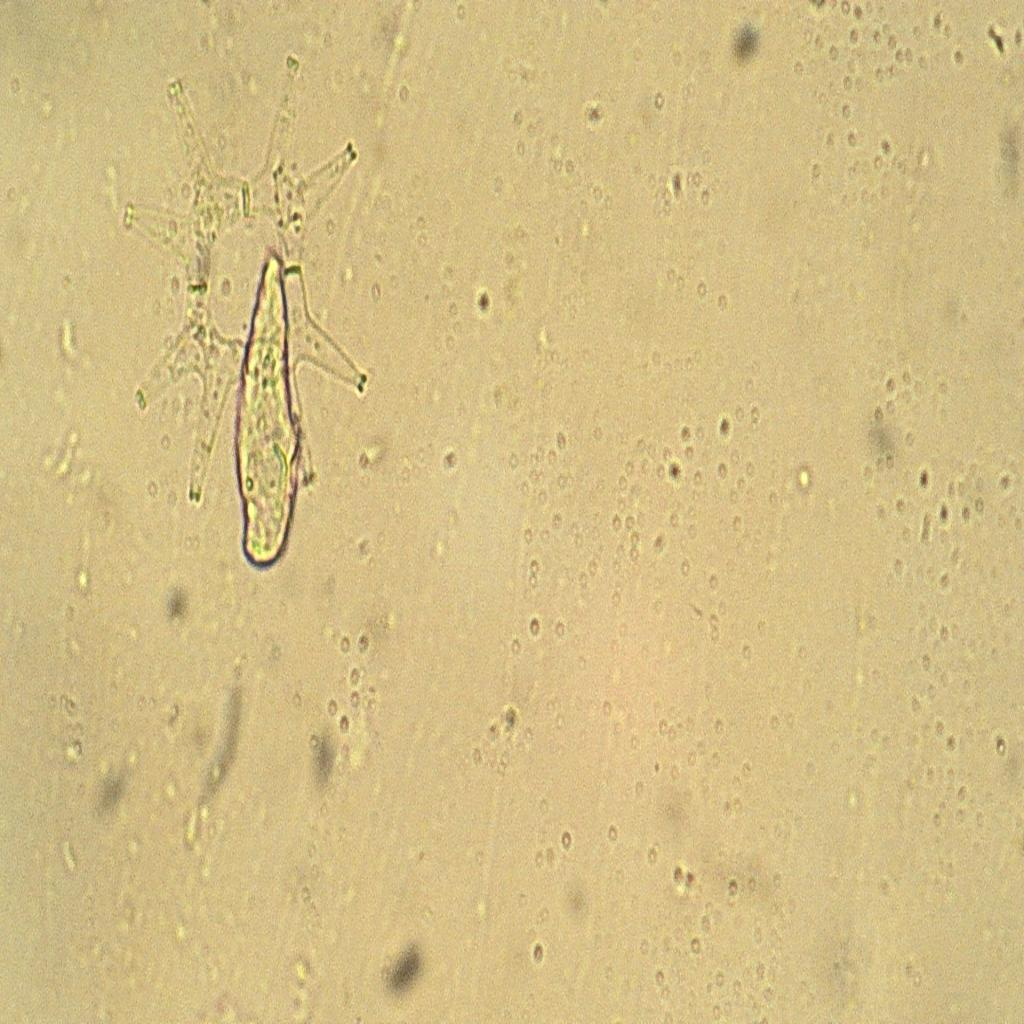Pediastrum_75TH: (91, 36, 396, 549)
